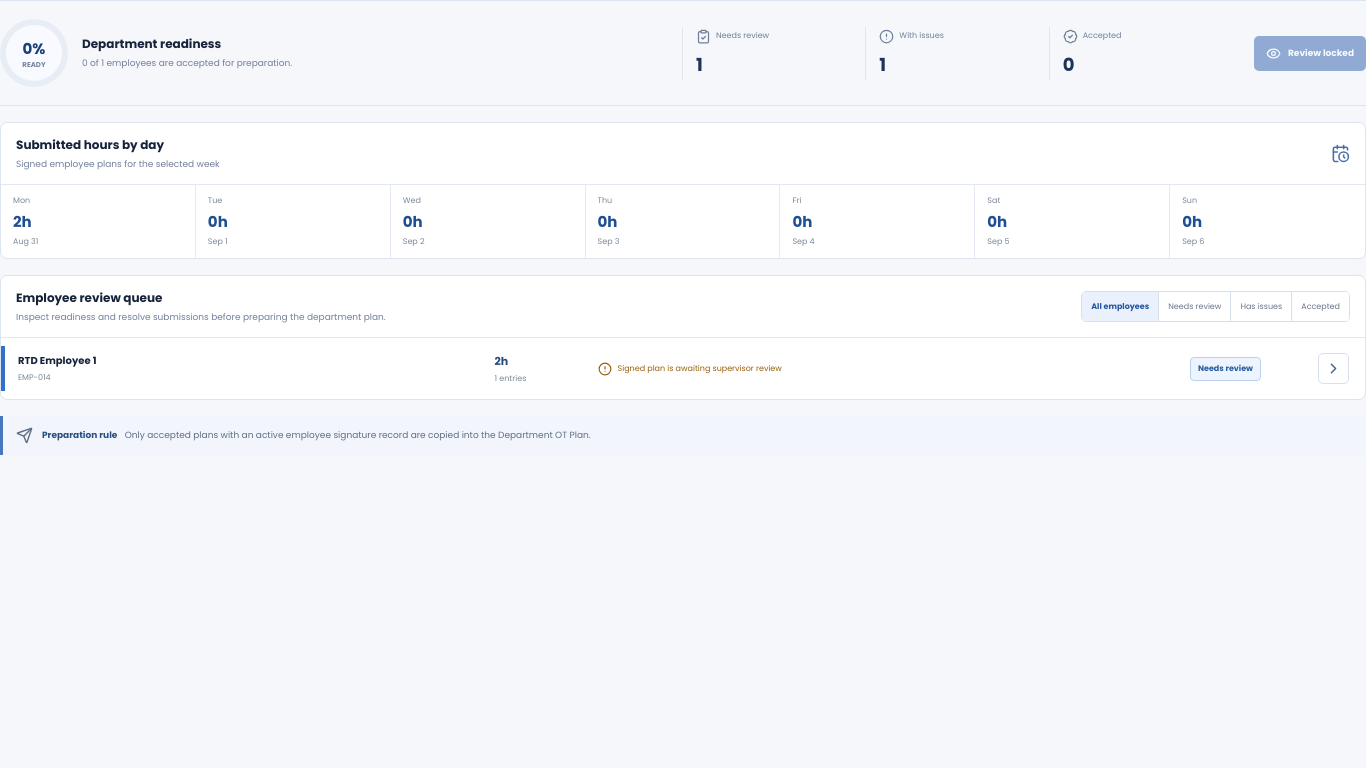
DepartmentPreparationWorkspace › keeps submitted department preparation read-only while allowing inspection
This screenshot has width=1366, height=768.
Expected: the button "Review locked" is disabled, [1254,36,1365,70]
Click the button named "Inspect RTD Employee 1 overtime plan" at (1334, 369), box [1318,353,1349,384]
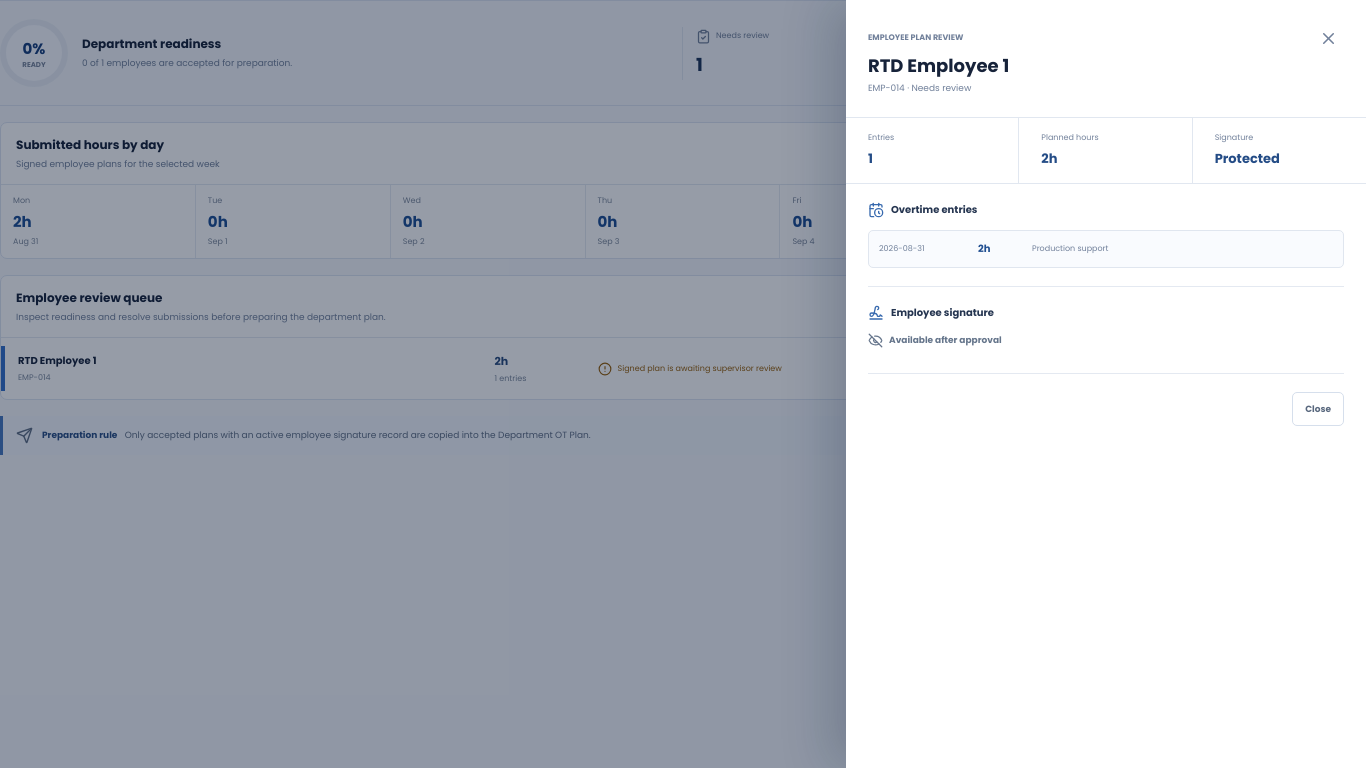
Now the text "Production support" is shown, box [1032,243,1108,254]
